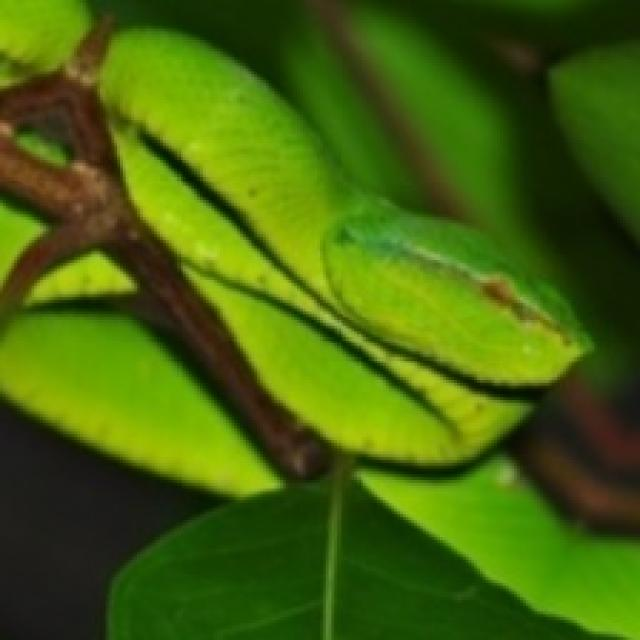north ph temple pitviper: (0, 0, 586, 491)
